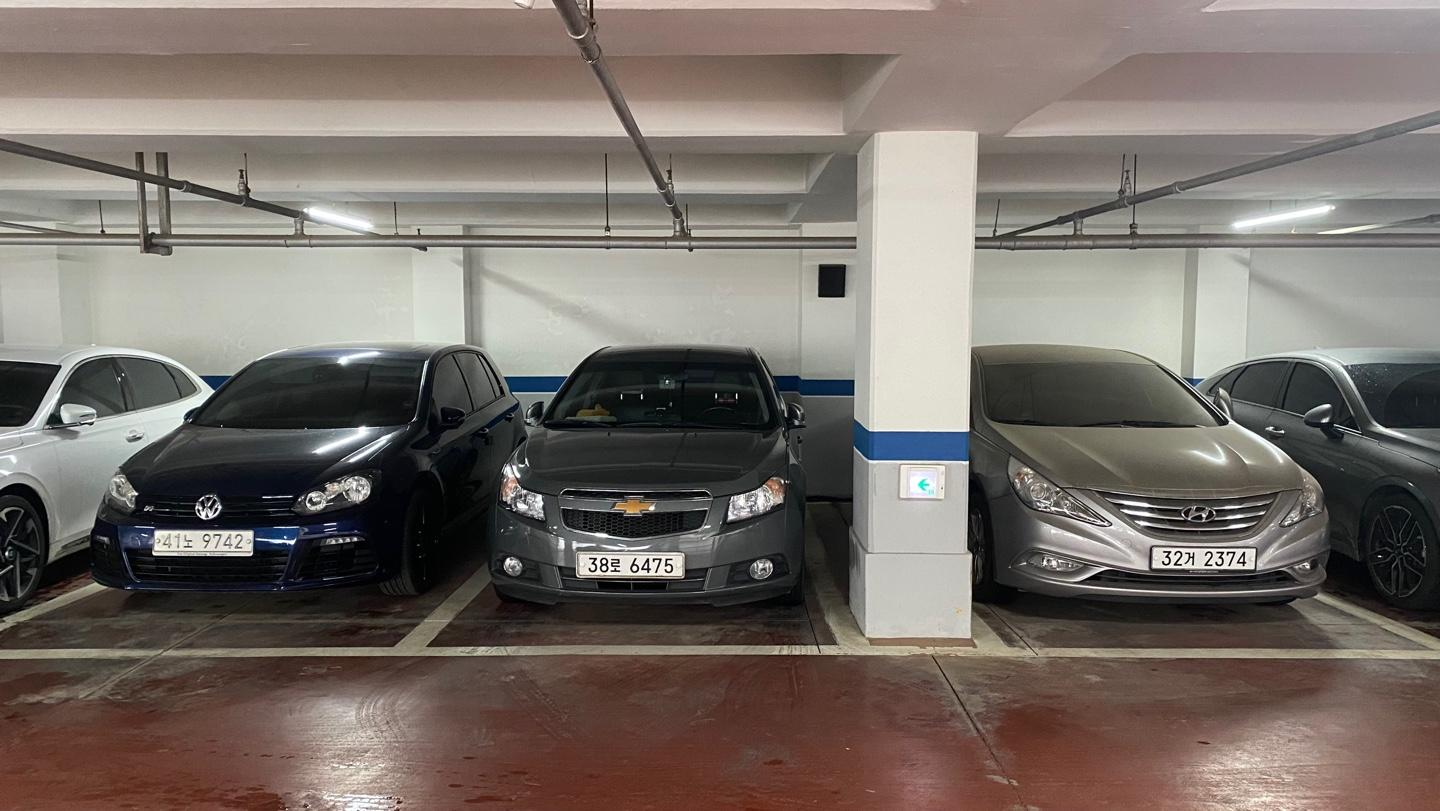occupied: (974, 342, 1325, 616), (102, 349, 464, 599), (497, 339, 806, 606)
